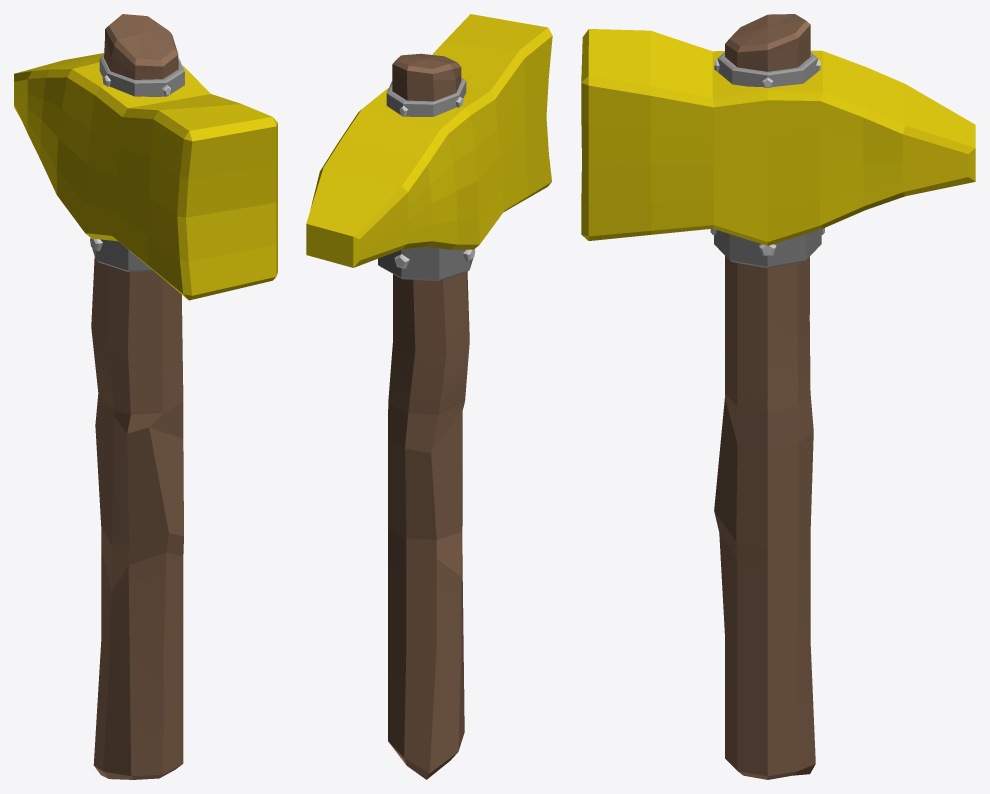
The model's file is Hammer2_Gold.fbx.
3 views of the same model, side by side, from view 1: azimuth 30°, elevation 25°; view 2: azimuth 150°, elevation 25°; view 3: azimuth 270°, elevation 25° (orthographic). The views are drawn at different scales.
Visible parts, largest first — view 1: Hammer2_Gold; view 2: Hammer2_Gold; view 3: Hammer2_Gold.
Part boxes in pixels (x1=…): Hammer2_Gold: x1=14, y1=14, x2=277, y2=779; Hammer2_Gold: x1=306, y1=14, x2=552, y2=779; Hammer2_Gold: x1=581, y1=14, x2=975, y2=779.
Bounding box in the file's own units: 10.39 × 64.49 × 30.19.
